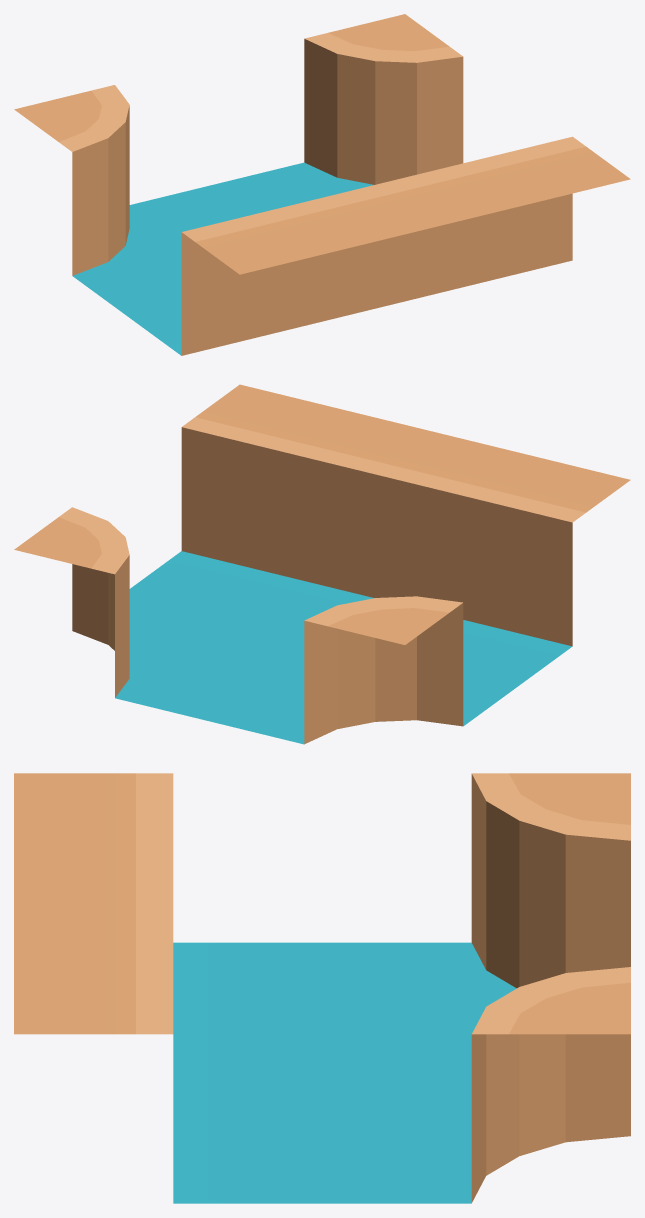
File: Water_6.fbx
3 views of the same model, one above another, from view 1: azimuth 30°, elevation 25°; view 2: azimuth 150°, elevation 25°; view 3: azimuth 270°, elevation 25° (orthographic). The views are drawn at different scales.
Parts seen in each view (by area): view 1: Water_6; view 2: Water_6; view 3: Water_6.
Boxes of the visible parts, left/top/right/bottom form: Water_6: left=14, top=14, right=630, bottom=355; Water_6: left=14, top=384, right=630, bottom=744; Water_6: left=14, top=773, right=630, bottom=1203.
Bounding box in the file's own units: 1 × 0.3027 × 1.
